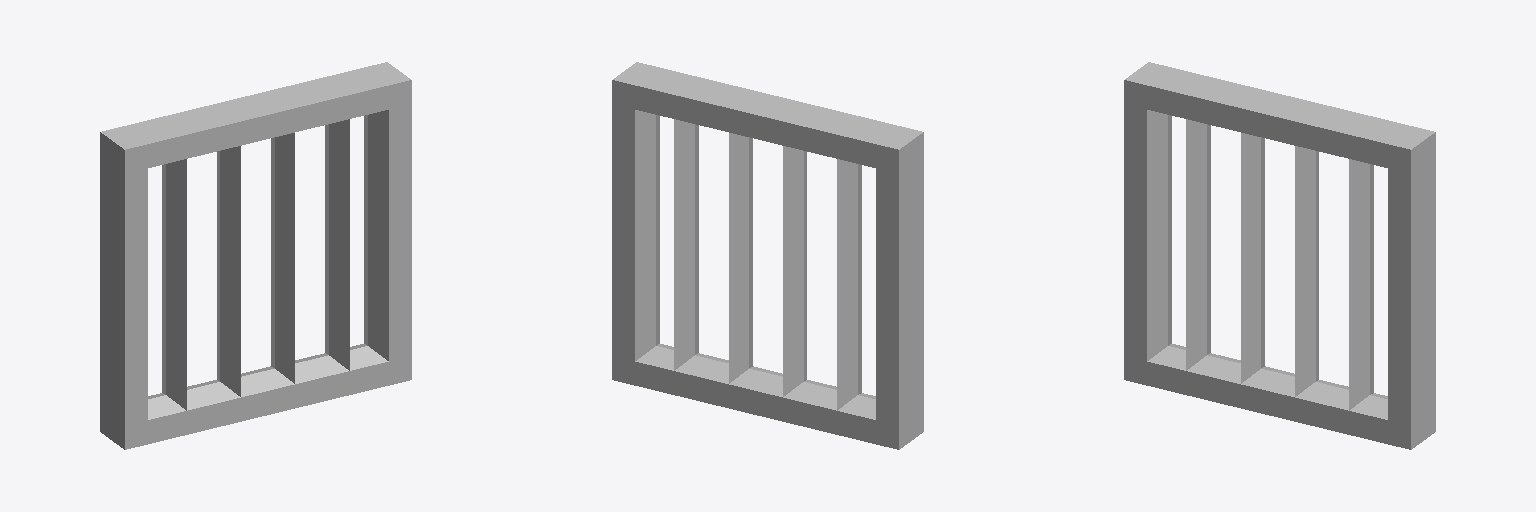
File: Vent-Cap-Slots.obj
3 renders of one model, left to right at view 1: azimuth 30°, elevation 25°; view 2: azimuth 150°, elevation 25°; view 3: azimuth 330°, elevation 25°, orthographic.
Parts seen in each view (by area): view 1: Vent_Cap_Slots_Cube.017; view 2: Vent_Cap_Slots_Cube.017; view 3: Vent_Cap_Slots_Cube.017.
Part boxes in pixels (x1,y1,x2,y2): Vent_Cap_Slots_Cube.017: (100, 62, 411, 449); Vent_Cap_Slots_Cube.017: (612, 62, 923, 449); Vent_Cap_Slots_Cube.017: (1124, 62, 1435, 449).
Bounding box in the file's own units: 1.69 × 1.69 × 0.25.